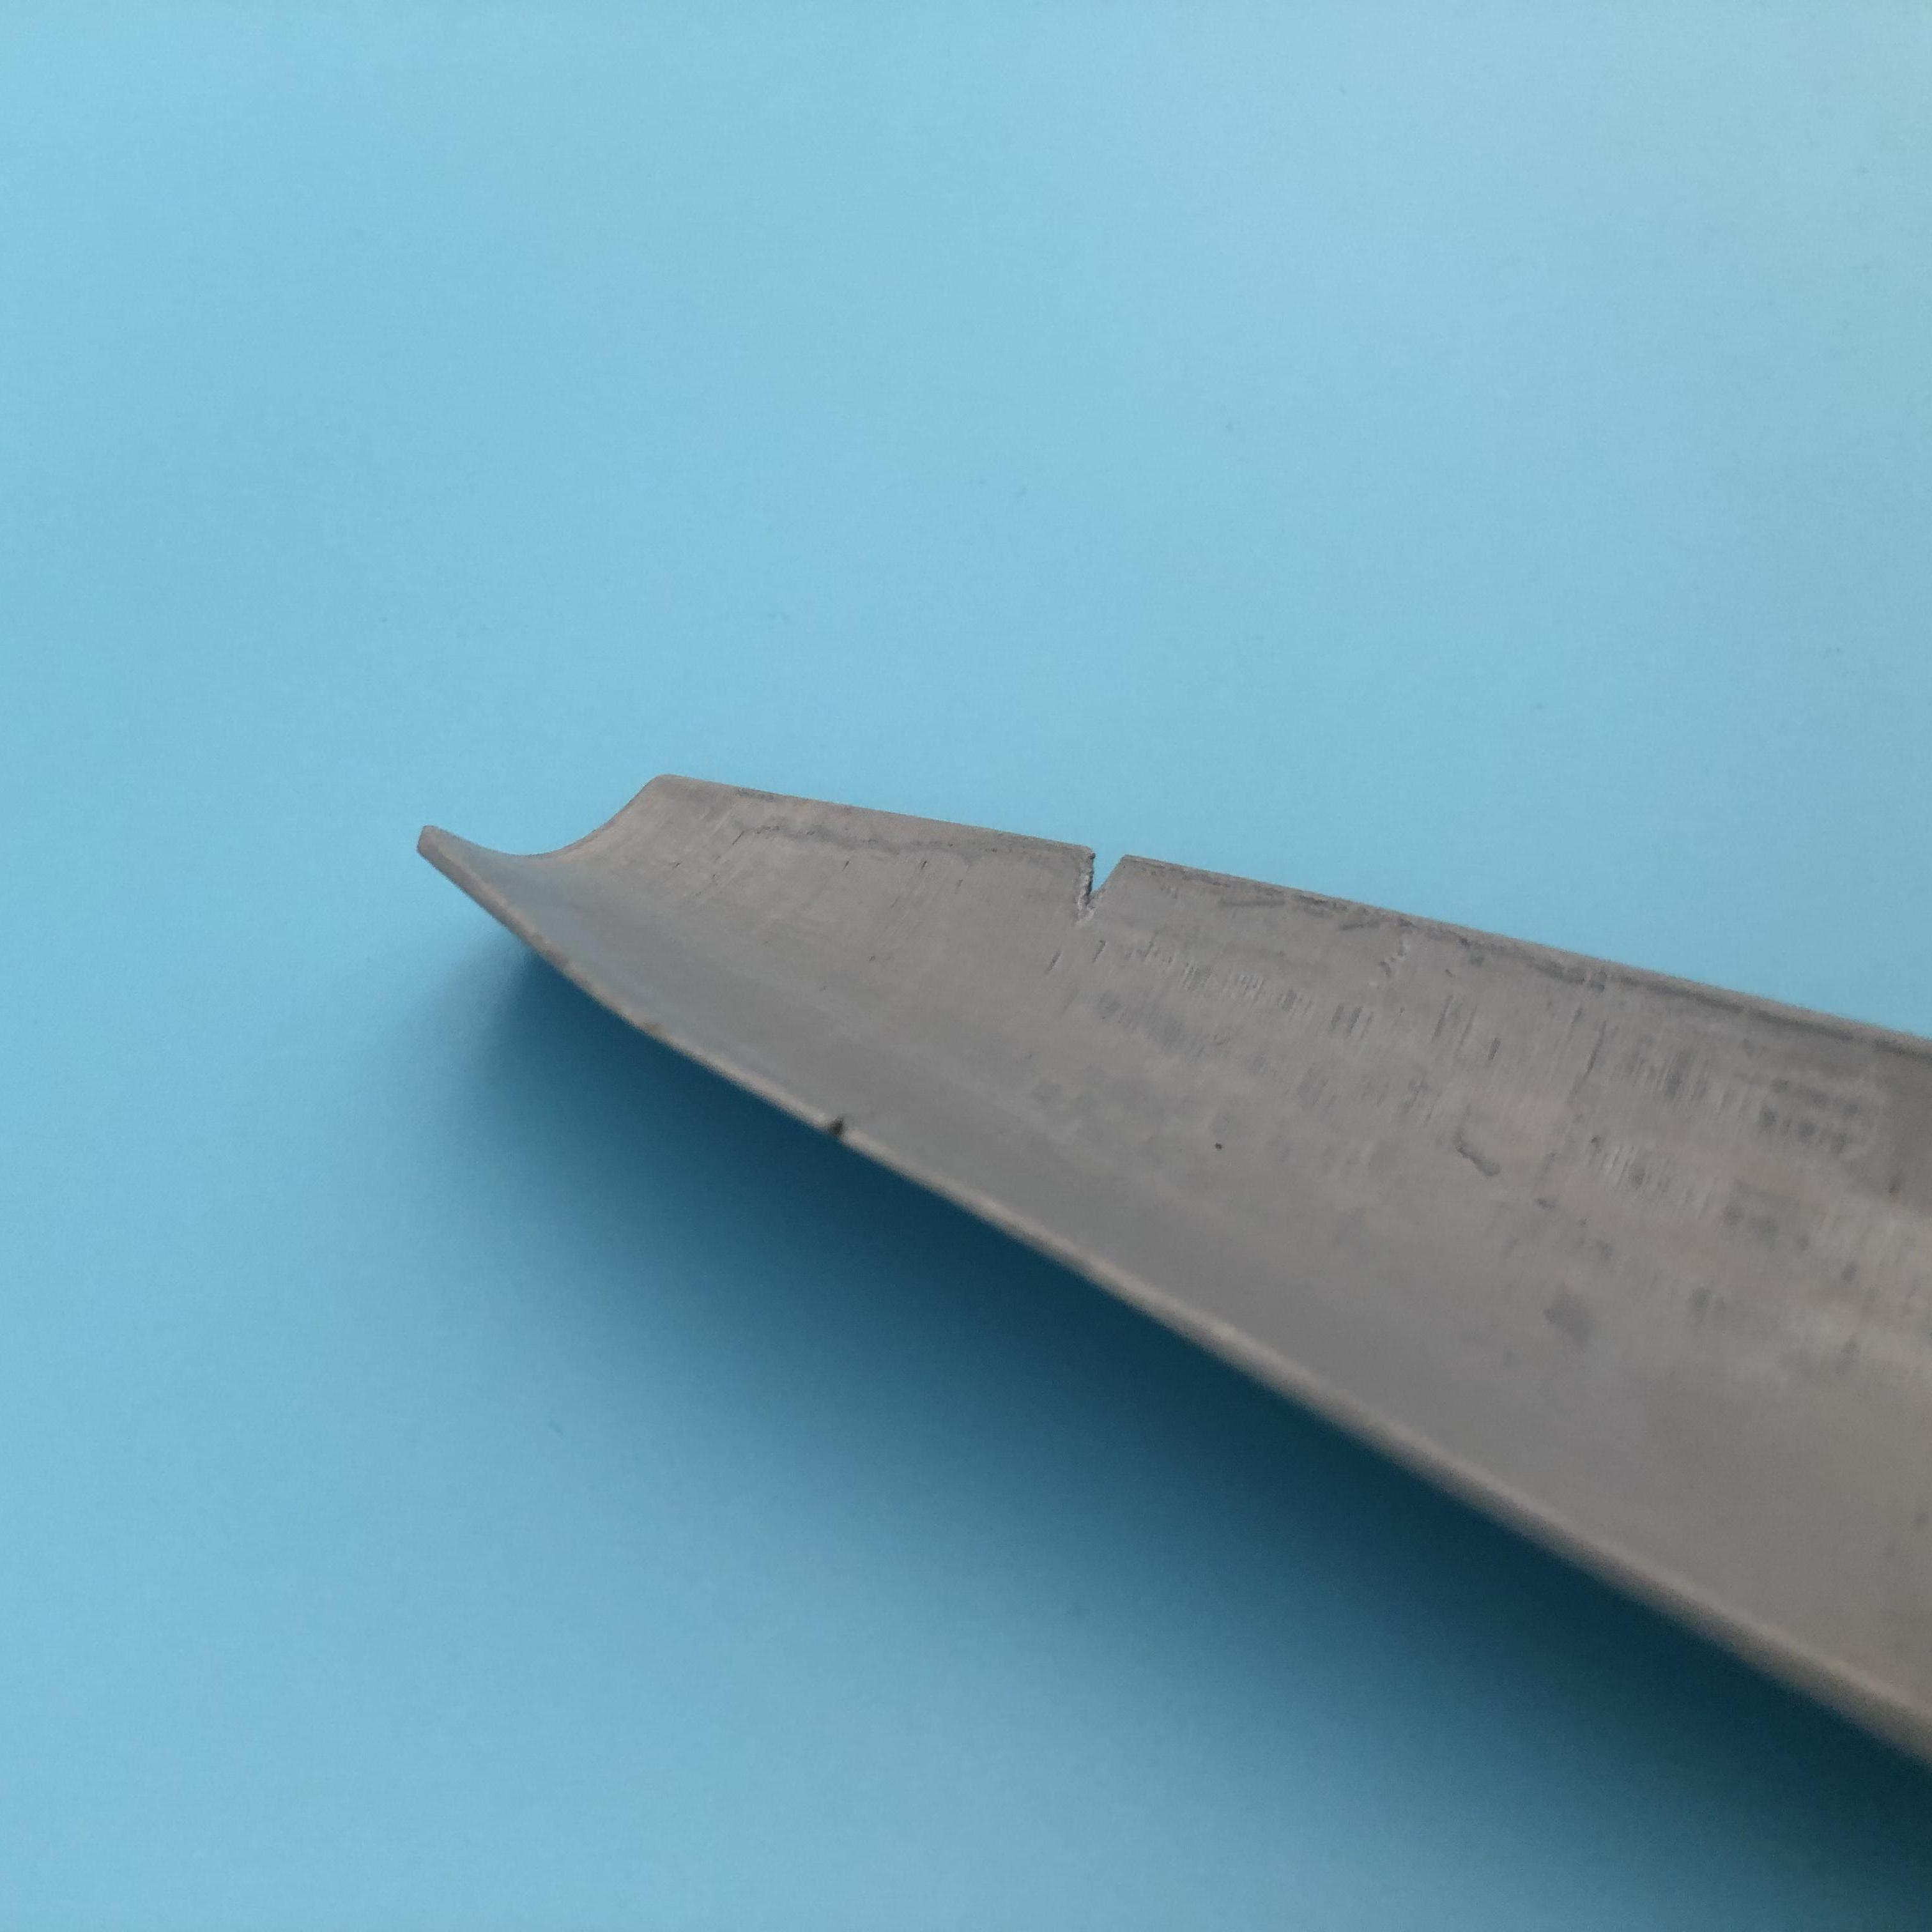groove: (1074, 855, 1139, 922), (819, 1106, 872, 1141)
